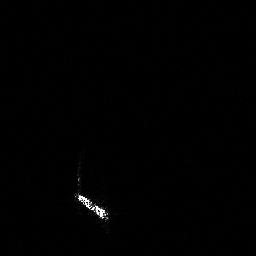ship: (70, 188, 114, 225)
